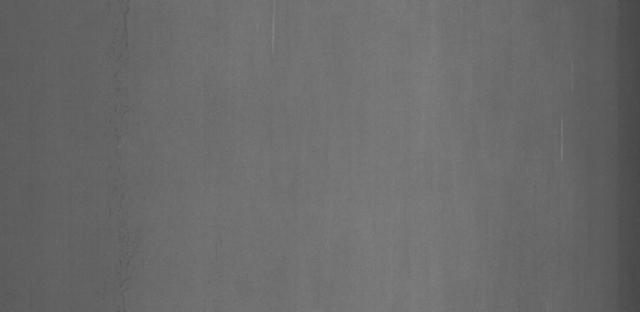silk_spot: (248, 14, 291, 74)
